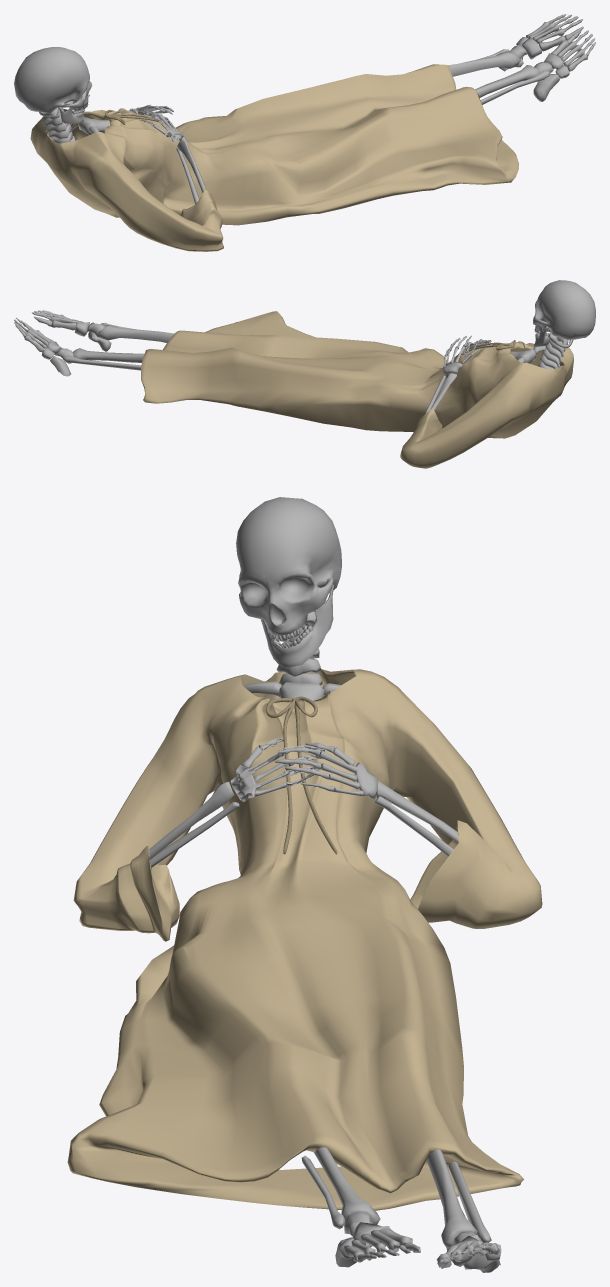
File: Ada_Kleding.fbx
3 renders of one model, top to bottom at view 1: azimuth 30°, elevation 25°; view 2: azimuth 150°, elevation 25°; view 3: azimuth 270°, elevation 25°, orthographic. The views are drawn at different scales.
Visible parts, largest first — view 1: ResearchLibrary_Ada_Dress, Skull, RightFoot, LeftFoot, RightKnee, LeftKnee, Neck, RightForearm, RightHand1, Chest, Jaw, ResearchLibrary_Ada_Strings; view 2: ResearchLibrary_Ada_Dress, Skull, LeftFoot, LeftKnee, RightFoot, RightKnee, Neck, LeftHand, LeftForearm, Chest, ResearchLibrary_Ada_Strings; view 3: ResearchLibrary_Ada_Dress, Skull, LeftKnee, RightFoot, LeftHand, RightKnee, RightHand1, RightForearm, Jaw, LeftForearm, LeftFoot, ResearchLibrary_Ada_Strings (+2 smaller).
Part boxes in pixels (left/top/right/bottom): ResearchLibrary_Ada_Dress: left=30, top=64, right=518, bottom=251; Skull: left=14, top=47, right=92, bottom=113; RightFoot: left=533, top=30, right=595, bottom=101; LeftFoot: left=498, top=14, right=583, bottom=71; RightKnee: left=475, top=65, right=550, bottom=104; LeftKnee: left=448, top=49, right=521, bottom=76; Neck: left=39, top=107, right=72, bottom=143; RightForearm: left=176, top=136, right=206, bottom=203; RightHand1: left=138, top=110, right=184, bottom=141; Chest: left=50, top=116, right=110, bottom=141; Jaw: left=58, top=107, right=85, bottom=123; ResearchLibrary_Ada_Strings: left=105, top=110, right=190, bottom=143; ResearchLibrary_Ada_Dress: left=141, top=311, right=573, bottom=468; Skull: left=533, top=280, right=595, bottom=340; LeftFoot: left=14, top=317, right=73, bottom=376; LeftKnee: left=63, top=348, right=144, bottom=370; RightFoot: left=32, top=310, right=111, bottom=351; RightKnee: left=98, top=322, right=173, bottom=342; Neck: left=538, top=332, right=573, bottom=370; LeftHand: left=443, top=335, right=481, bottom=374; LeftForearm: left=425, top=373, right=456, bottom=413; Chest: left=511, top=346, right=545, bottom=363; ResearchLibrary_Ada_Strings: left=429, top=340, right=515, bottom=377; ResearchLibrary_Ada_Dress: left=67, top=668, right=542, bottom=1210; Skull: left=236, top=497, right=341, bottom=641; LeftKnee: left=426, top=1149, right=491, bottom=1247; RightFoot: left=335, top=1212, right=420, bottom=1267; LeftHand: left=275, top=742, right=377, bottom=798; RightKnee: left=301, top=1147, right=380, bottom=1229; RightHand1: left=230, top=738, right=330, bottom=801; RightForearm: left=149, top=781, right=239, bottom=867; Jaw: left=260, top=584, right=334, bottom=667; LeftForearm: left=374, top=781, right=458, bottom=856; LeftFoot: left=436, top=1231, right=501, bottom=1272; ResearchLibrary_Ada_Strings: left=266, top=696, right=337, bottom=854.
Bounding box in the file's own units: 3.67 × 1.09 × 1.4.
